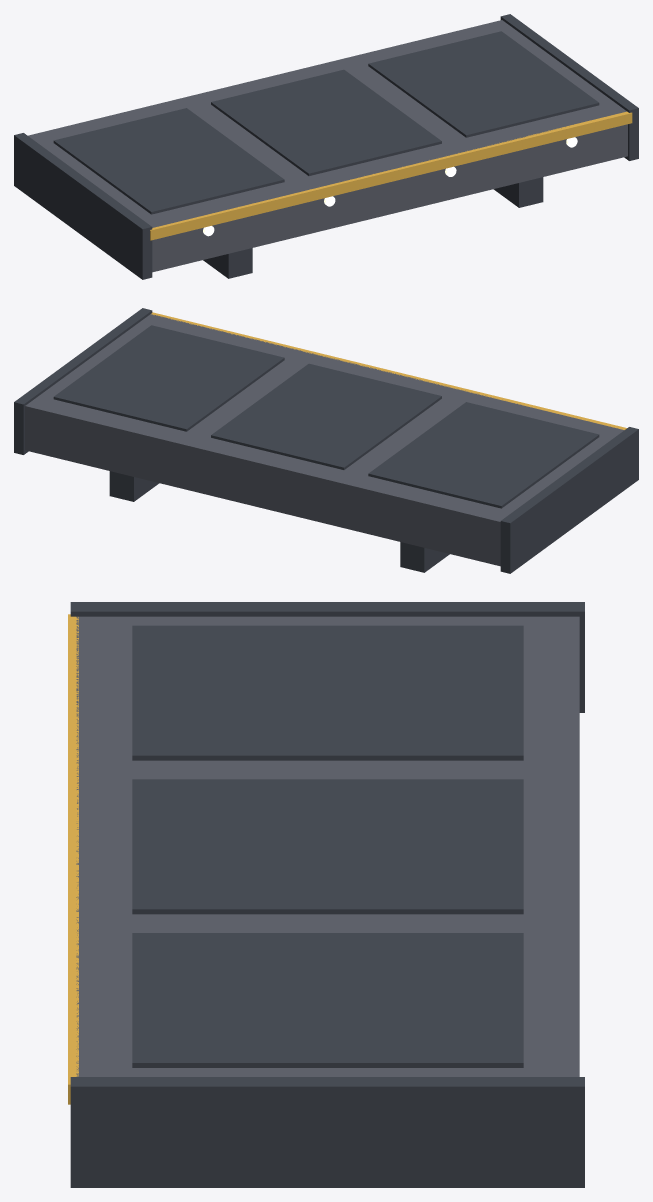
The model's file is platform_straight.glb.
3 views of the same model, one above another, from view 1: azimuth 30°, elevation 25°; view 2: azimuth 150°, elevation 25°; view 3: azimuth 270°, elevation 25° (orthographic). The views are drawn at different scales.
Visible parts, largest first — view 1: DeckSlab, Grate_-1.3, Grate_1.3, Grate_0.0, Bracket_L, HazardStrip, Bracket_R, IBeam_1.2, IBeam_-1.2; view 2: DeckSlab, Grate_-1.3, Grate_1.3, Grate_0.0, Bracket_L, Bracket_R, HazardStrip, IBeam_1.2, IBeam_-1.2; view 3: DeckSlab, Bracket_R, Grate_0.0, Grate_-1.3, Grate_1.3, Bracket_L, HazardStrip.
Boxes of the visible parts, x1=… form: DeckSlab: x1=28, y1=20, x2=627, y2=272; Grate_-1.3: x1=53, y1=108, x2=284, y2=214; Grate_1.3: x1=368, y1=31, x2=599, y2=137; Grate_0.0: x1=211, y1=69, x2=441, y2=175; Bracket_L: x1=14, y1=133, x2=152, y2=279; HazardStrip: x1=150, y1=111, x2=632, y2=240; Bracket_R: x1=500, y1=14, x2=638, y2=160; IBeam_1.2: x1=493, y1=177, x2=543, y2=207; IBeam_-1.2: x1=203, y1=248, x2=252, y2=278; DeckSlab: x1=25, y1=314, x2=624, y2=566; Grate_-1.3: x1=368, y1=402, x2=599, y2=508; Grate_1.3: x1=53, y1=325, x2=284, y2=431; Grate_0.0: x1=211, y1=363, x2=441, y2=469; Bracket_L: x1=500, y1=427, x2=638, y2=573; Bracket_R: x1=14, y1=308, x2=152, y2=454; HazardStrip: x1=151, y1=312, x2=626, y2=429; IBeam_1.2: x1=109, y1=471, x2=159, y2=501; IBeam_-1.2: x1=400, y1=542, x2=449, y2=572; DeckSlab: x1=76, y1=616, x2=579, y2=1076; Bracket_R: x1=70, y1=1077, x2=584, y2=1187; Grate_0.0: x1=132, y1=779, x2=523, y2=914; Grate_-1.3: x1=132, y1=625, x2=523, y2=760; Grate_1.3: x1=132, y1=933, x2=523, y2=1067; Bracket_L: x1=70, y1=602, x2=584, y2=712; HazardStrip: x1=68, y1=614, x2=78, y2=1104.
Size of the model in its own units: 4.1 by 0.595 by 1.85.
